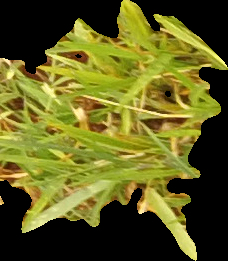grass: (1, 1, 227, 260)
